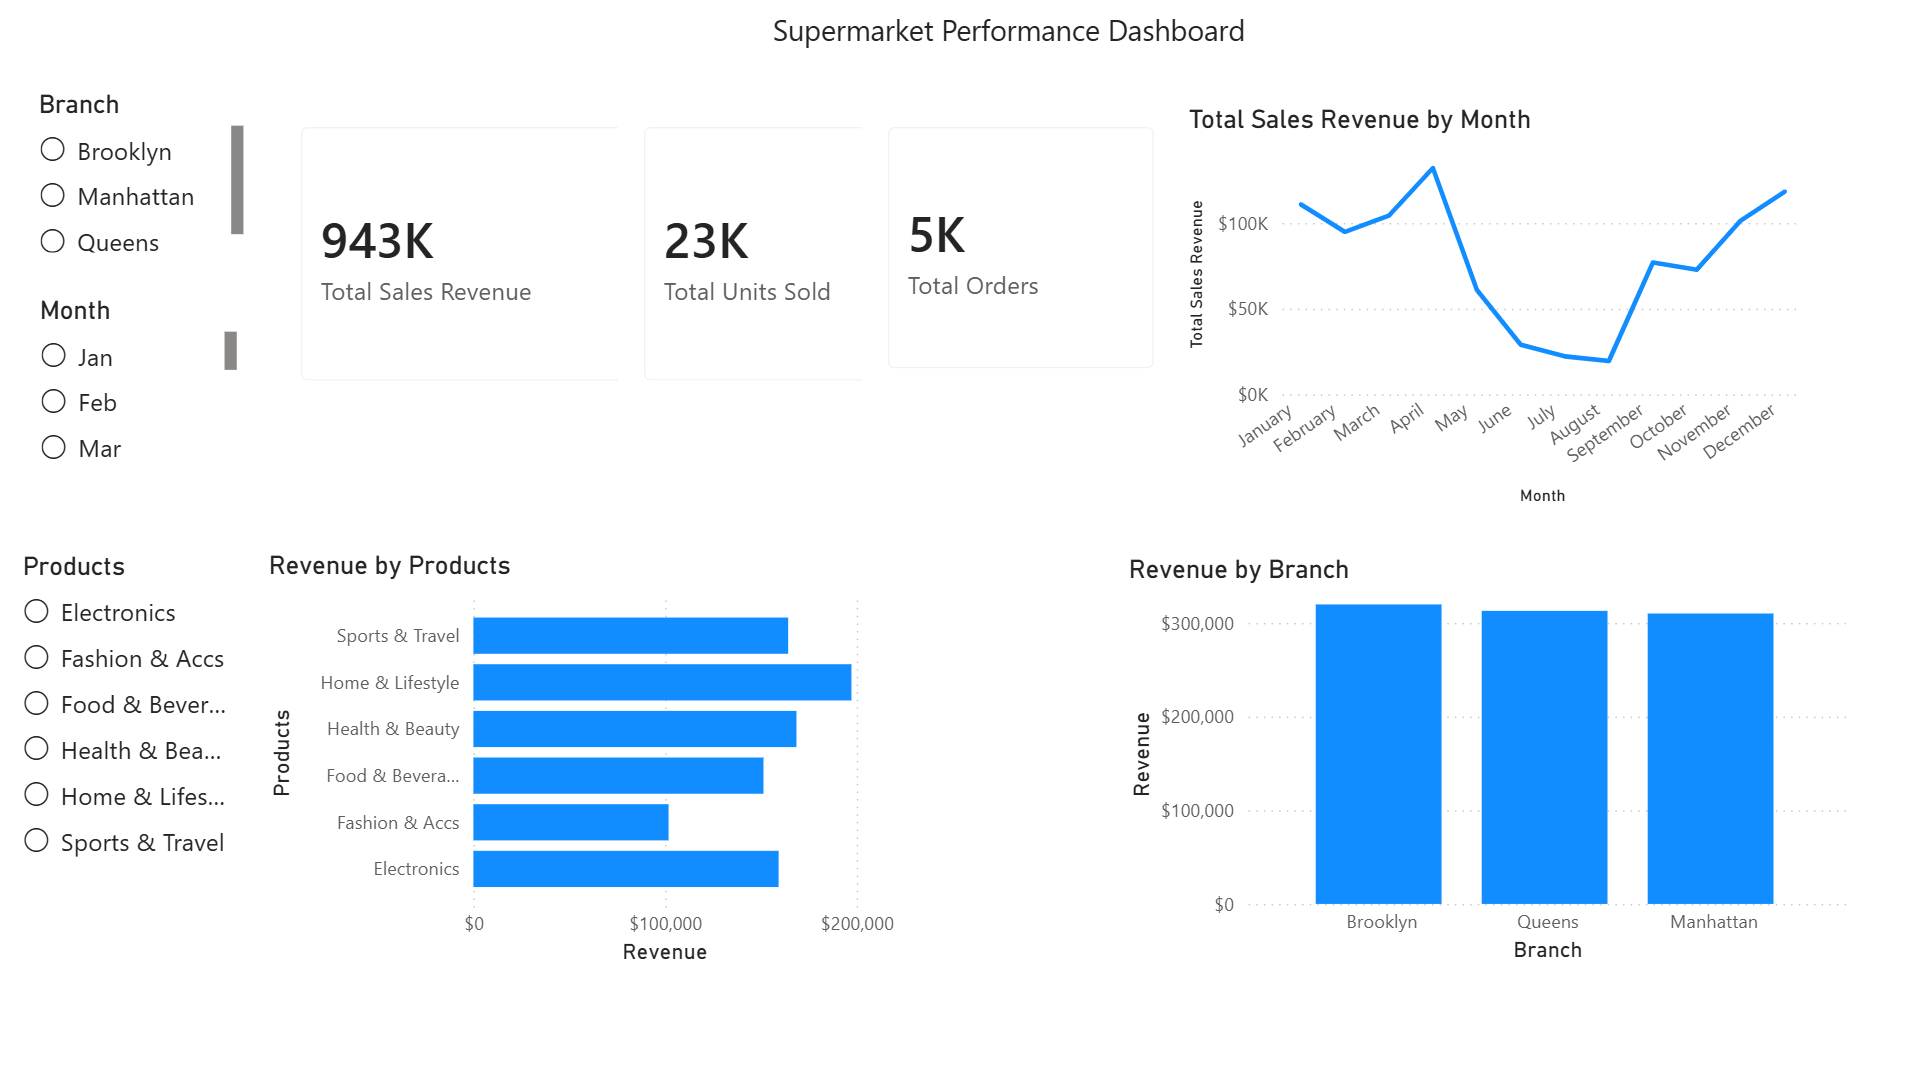

This screenshot's page, from the dashboard's own definition file:
{"tool":"powerbi","page":{"name":"Page 1","canvas":[1280,720],"ordinal":0},"visuals":[{"type":"cardVisual","fields":{"Data":["sales_clean.Total Sales Revenue Rounded"]},"box":[192,72,248,200],"z":0},{"type":"cardVisual","fields":{"Data":["sales_clean.Total Units Sold"]},"box":[416,72,184,200],"z":1000},{"type":"cardVisual","fields":{"Data":["sales_clean.Total Orders"]},"box":[576,72,208,192],"z":2000},{"type":"lineChart","fields":{"Category":["sales_clean.salesdate.Variation.Date Hierarchy.Month"],"Y":["sales_clean.Total Sales Revenue"]},"box":[784.5,73.9,411.6,267],"z":3000},{"type":"barChart","fields":{"Y":["sales_clean.Revenue By ProductLine"],"Category":["sales_clean.productline"]},"box":[182.5,365.8,418.8,275.5],"z":4000},{"type":"clusteredColumnChart","fields":{"Category":["sales_clean.branch"],"Y":["sales_clean.Revenue"]},"box":[745.2,368.2,480,272],"z":5000},{"type":"listSlicer","fields":{"Values":["sales_clean.branch"]},"box":[32,64,144,112],"z":6000},{"type":"listSlicer","fields":{"Values":["sales_clean.MonthName"]},"box":[32.6,198.9,139.4,125],"z":7000},{"type":"listSlicer","fields":{"Values":["sales_clean.productline"]},"box":[21.5,366.4,149.9,227.7],"z":8000},{"type":"textbox","box":[496,8,352,56],"z":9000}]}

Visuals, with their boxes in screenshot pixels (x1, y1, x2, y2), scaled from the page's 1280x720 canvas onto the 1925x1071 screenshot:
cardVisual - sales_clean.Total Sales Revenue Rounded: locate(289, 107, 662, 405)
cardVisual - sales_clean.Total Units Sold: locate(626, 107, 902, 405)
cardVisual - sales_clean.Total Orders: locate(866, 107, 1179, 393)
lineChart - sales_clean.salesdate.Variation.Date Hierarchy.Month x sales_clean.Total Sales Revenue: locate(1180, 110, 1799, 507)
barChart - sales_clean.Revenue By ProductLine x sales_clean.productline: locate(274, 544, 904, 954)
clusteredColumnChart - sales_clean.branch x sales_clean.Revenue: locate(1121, 548, 1843, 952)
listSlicer - sales_clean.branch: locate(48, 95, 265, 262)
listSlicer - sales_clean.MonthName: locate(49, 296, 259, 482)
listSlicer - sales_clean.productline: locate(32, 545, 258, 884)
textbox: locate(746, 12, 1275, 95)
